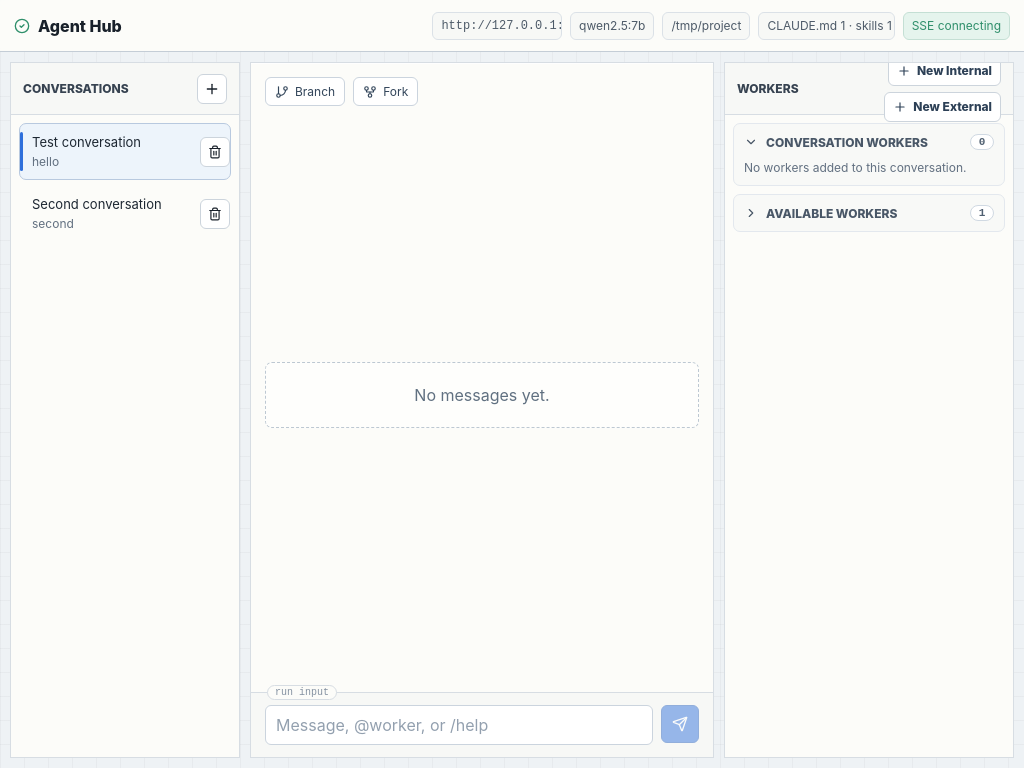
it: Agent Hub app › validates empty mention body locally
Type "@reviewer" into the field with placeholder "Message, @worker, or /help". click: (459, 725)
box: [265,705,653,745]
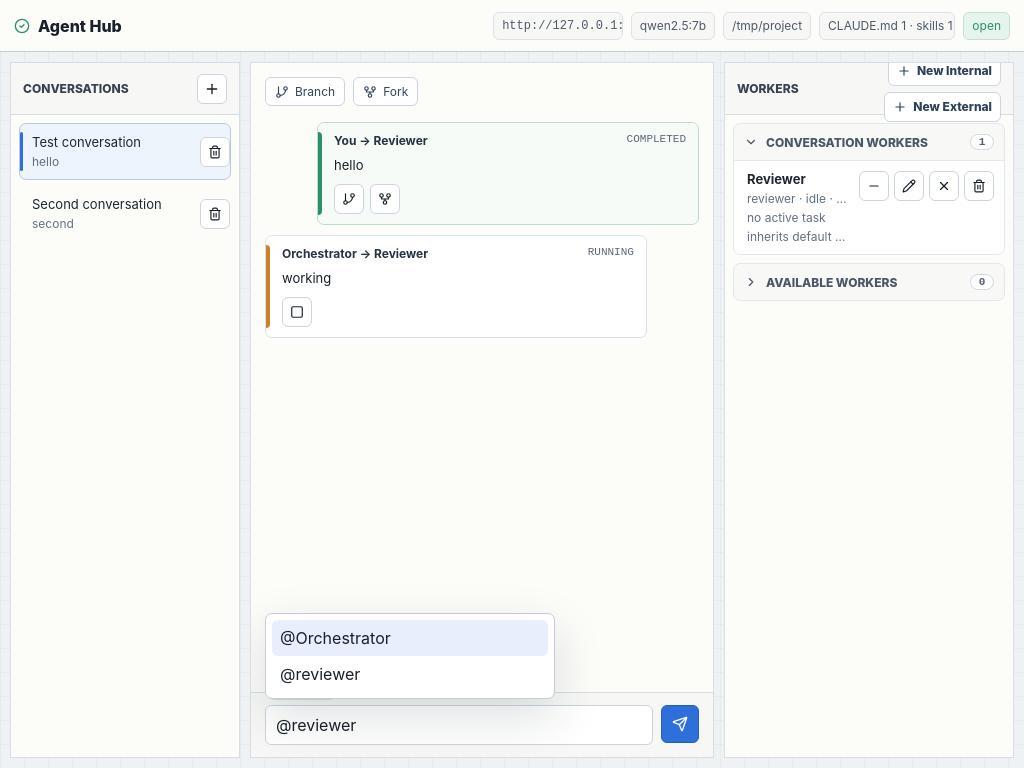
Click the button named "Send". click: (680, 724)
box: [661,705,699,743]
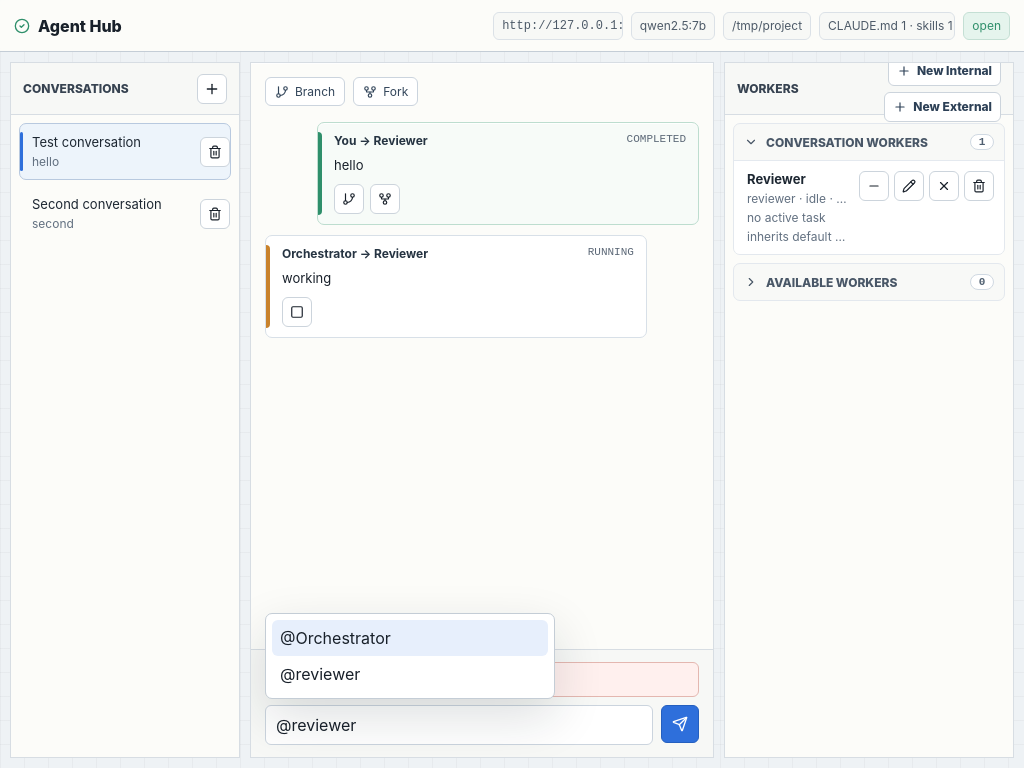
Expected: the text "Message text is required after a worker mention." is shown, [265,662,699,697]
